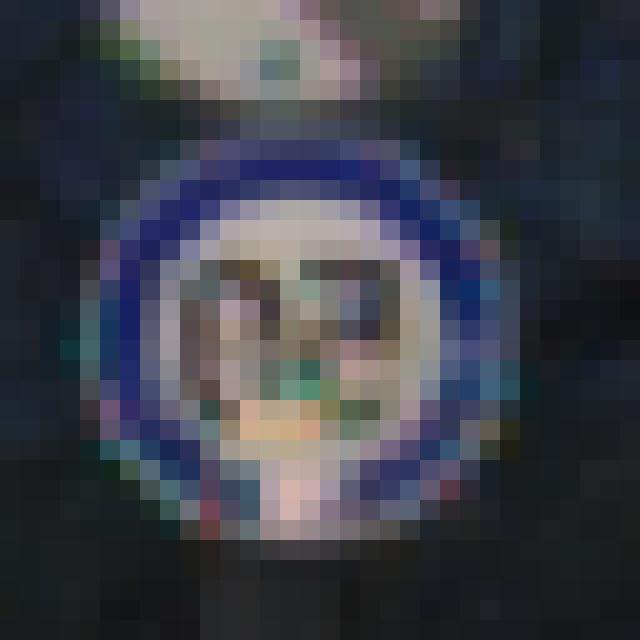SPEED LIMIT 50: (140, 182, 462, 500)
